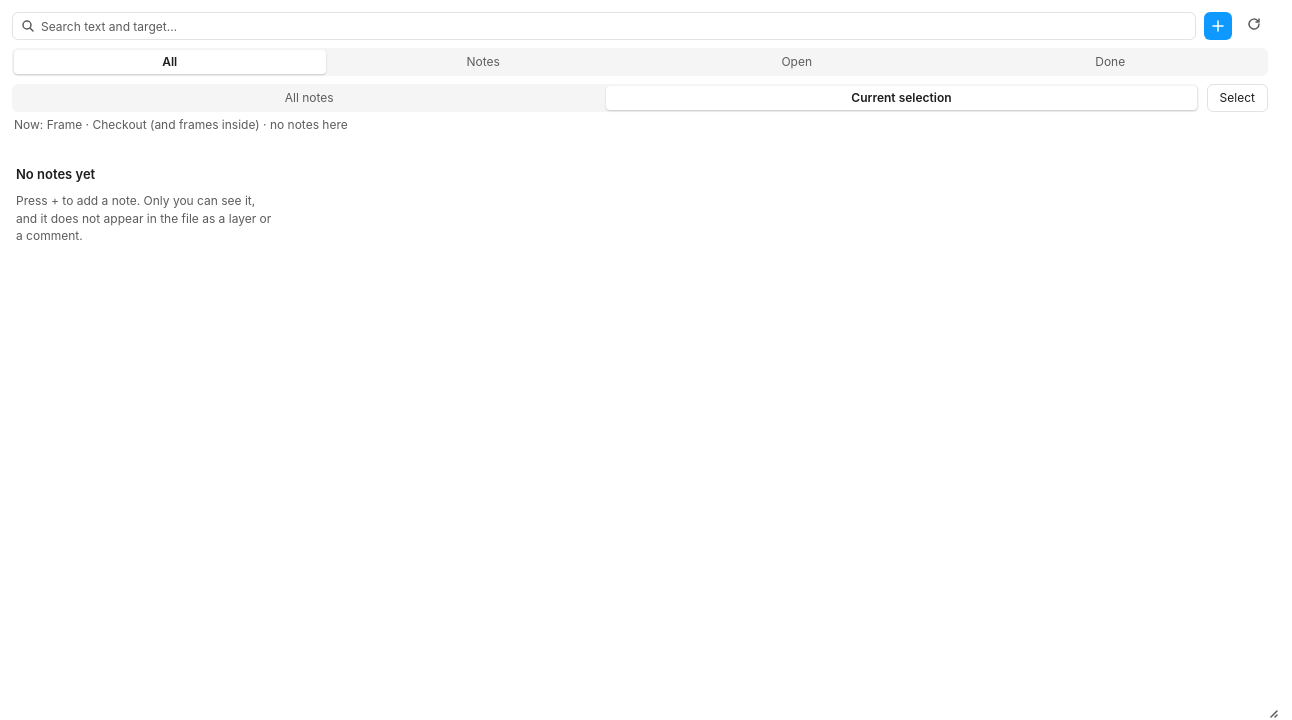
Test: Smart Context in the window › opens in the remembered view
The width and height of the screenshot is (1292, 720).
Expected: the button named "Add note" is shown, x1=1204 y1=12 x2=1232 y2=40
What coordinates should you click on to do the following:
click the button named "Refresh the list"
I would click on:
 (1254, 26)
Its box is x1=1240 y1=12 x2=1268 y2=40.
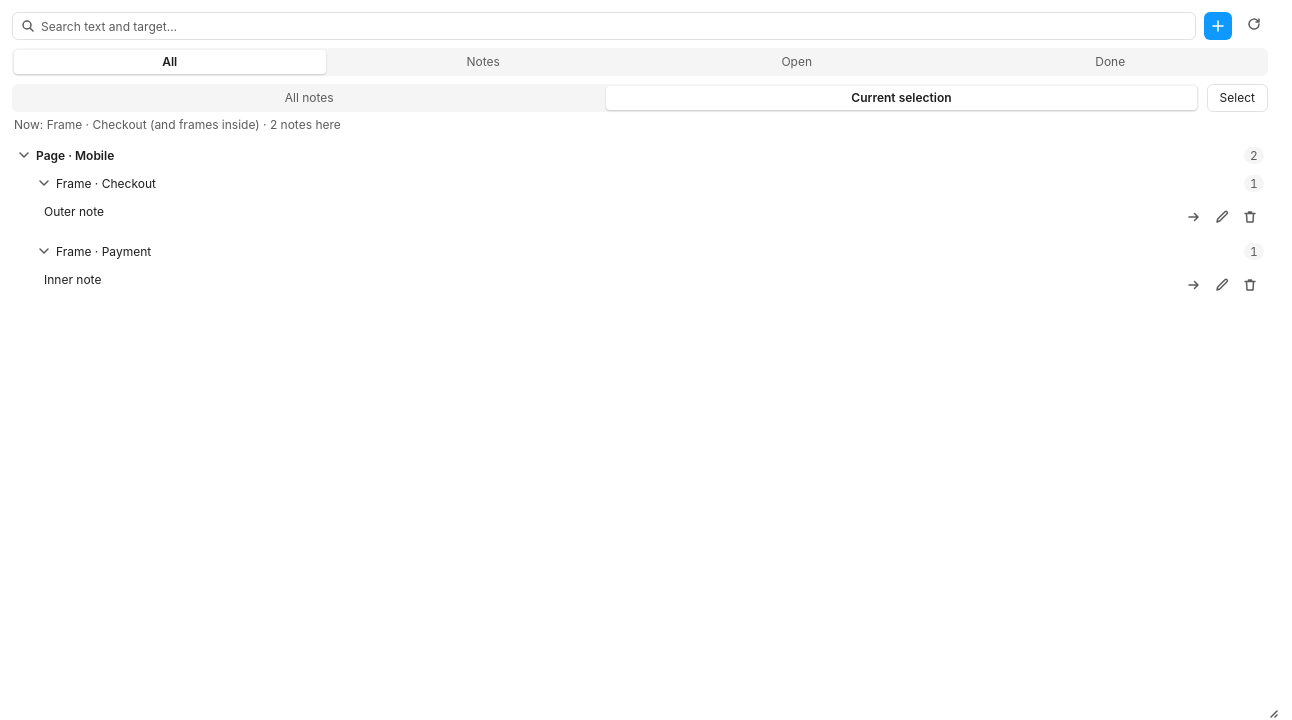
Now the text "Outer note" is shown, box x1=44 y1=204 x2=104 y2=219
